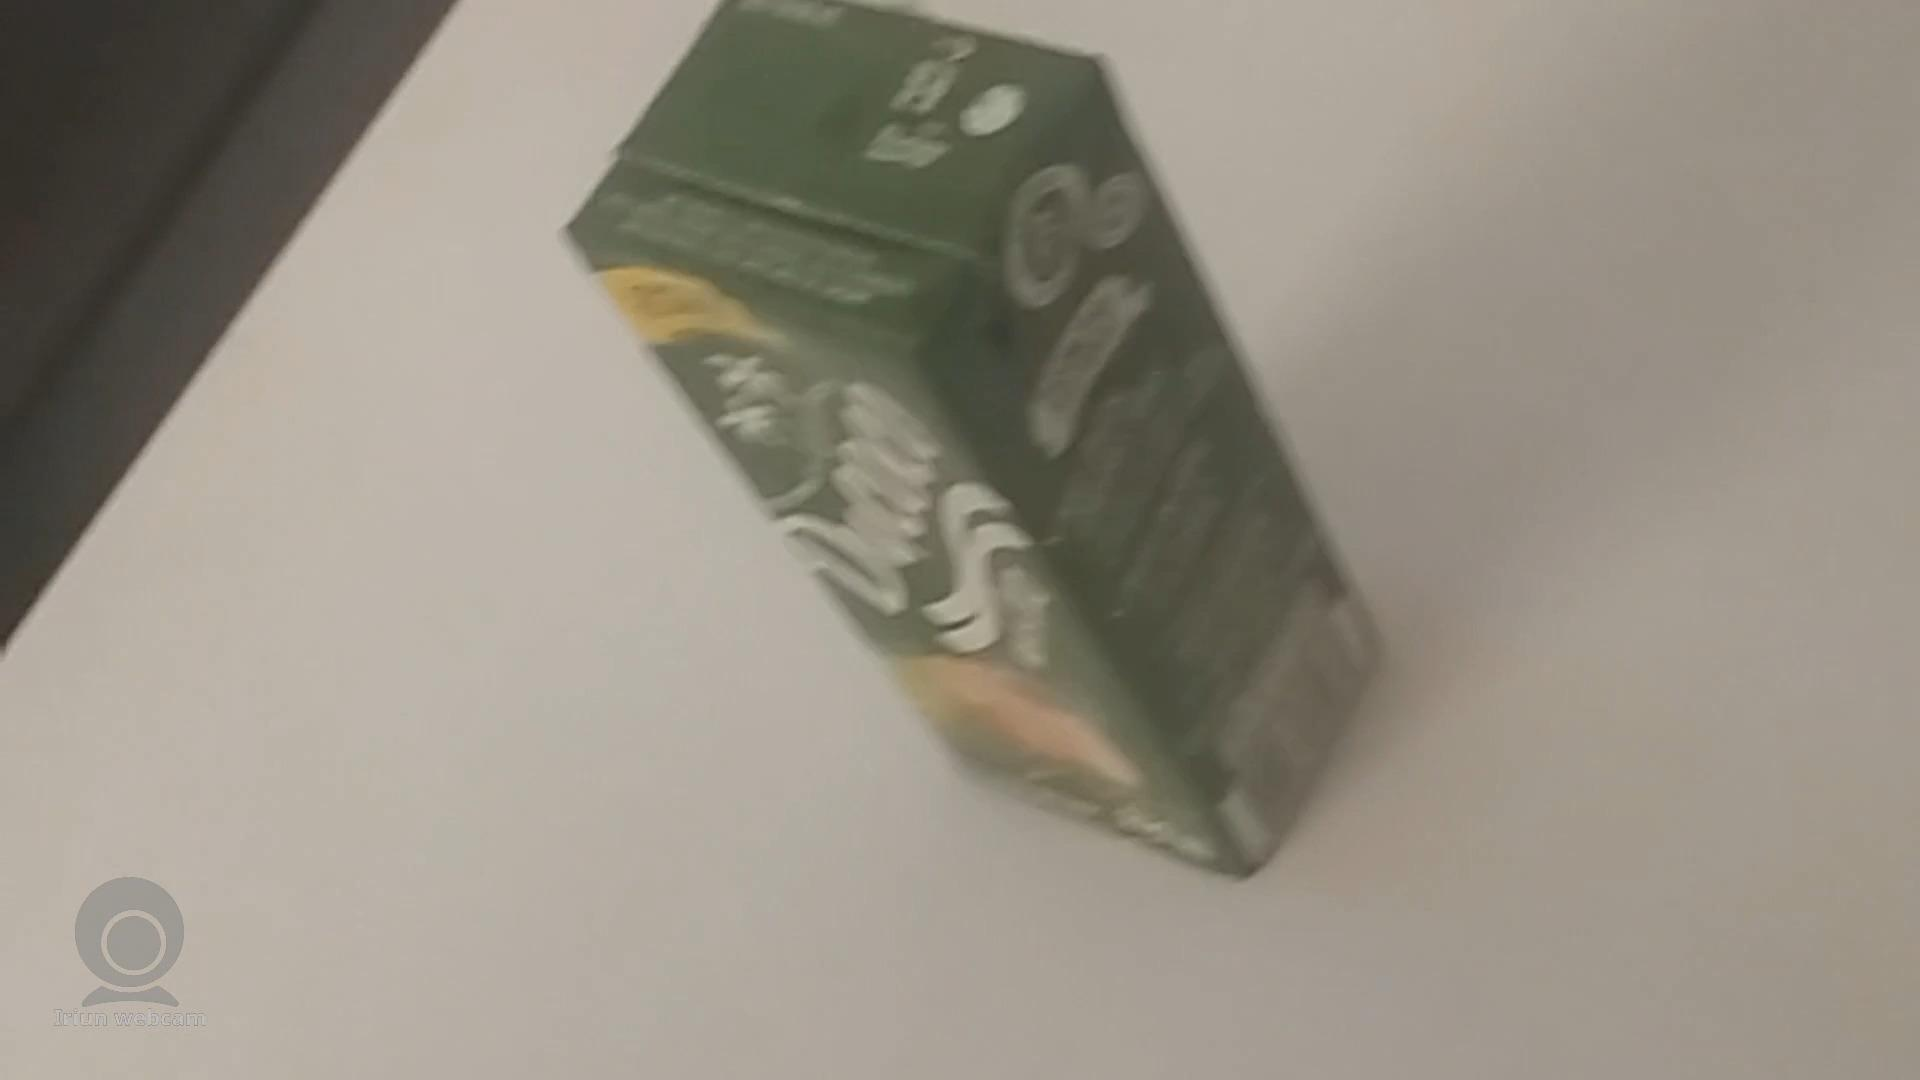coco: (562, 0, 1371, 889)
